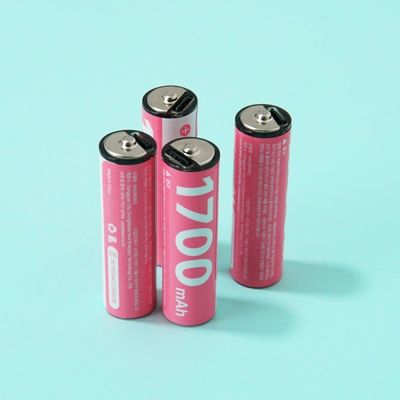battery: (161, 137, 221, 328), (144, 81, 198, 272), (101, 130, 153, 320), (237, 100, 280, 288), (262, 45, 263, 46)
